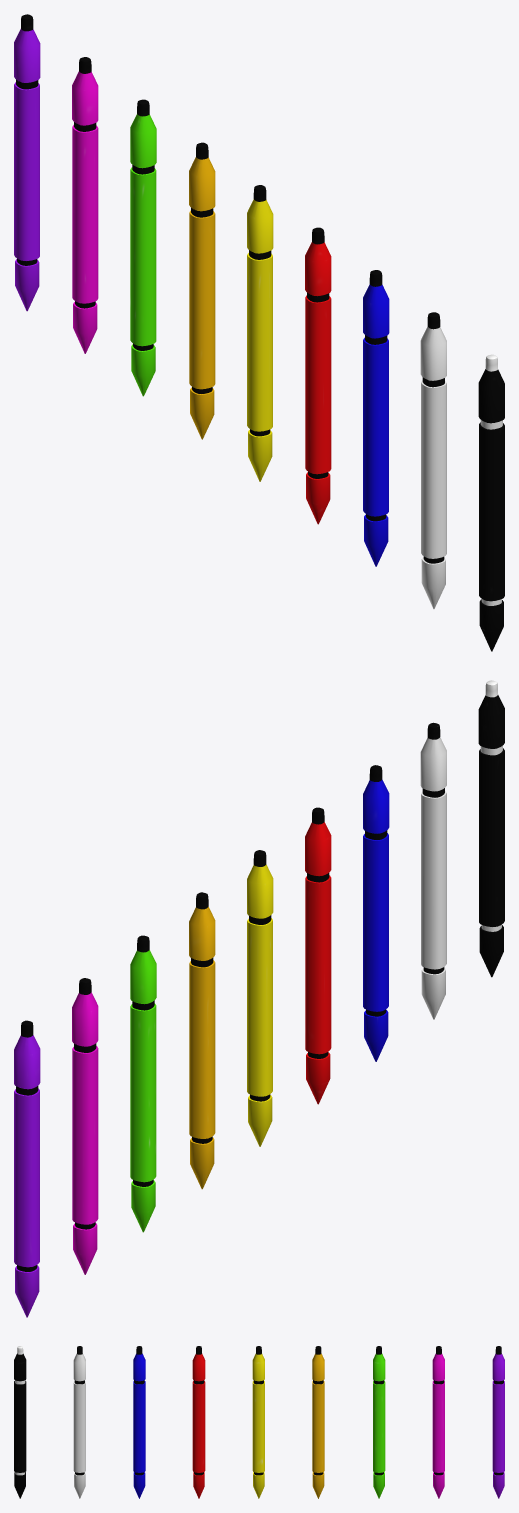
The model's file is PenV3.fbx.
The picture shows the model from 3 angles, top to bottom: view 1: azimuth 30°, elevation 25°; view 2: azimuth 150°, elevation 25°; view 3: azimuth 270°, elevation 25°; orthographic projection. The views are drawn at different scales.
Parts seen in each view (by area): view 1: GreenPen, RedPen, PinkPen, OrangePen, WhitePen, BluePen, YellowPen, BlackPen, PurplePen; view 2: PinkPen, GreenPen, RedPen, OrangePen, WhitePen, BluePen, YellowPen, PurplePen, BlackPen; view 3: RedPen, OrangePen, BluePen, BlackPen, PurplePen, WhitePen, YellowPen, PinkPen, GreenPen.
Part boxes in pixels (left/top/right/bottom): GreenPen: left=130, top=99, right=156, bottom=396; RedPen: left=305, top=227, right=331, bottom=524; PinkPen: left=72, top=57, right=98, bottom=353; OrangePen: left=189, top=142, right=215, bottom=439; WhitePen: left=420, top=312, right=446, bottom=608; BluePen: left=363, top=270, right=389, bottom=566; YellowPen: left=247, top=185, right=273, bottom=481; BlackPen: left=478, top=354, right=504, bottom=651; PurplePen: left=14, top=14, right=40, bottom=311; PinkPen: left=72, top=978, right=98, bottom=1274; GreenPen: left=130, top=935, right=156, bottom=1232; RedPen: left=305, top=807, right=331, bottom=1104; OrangePen: left=189, top=892, right=215, bottom=1189; WhitePen: left=420, top=722, right=446, bottom=1019; BluePen: left=363, top=765, right=389, bottom=1061; YellowPen: left=247, top=850, right=273, bottom=1146; PurplePen: left=14, top=1020, right=40, bottom=1317; BlackPen: left=478, top=680, right=504, bottom=977; RedPen: left=192, top=1346, right=205, bottom=1498; OrangePen: left=312, top=1346, right=324, bottom=1498; BluePen: left=133, top=1346, right=145, bottom=1498; BlackPen: left=14, top=1346, right=26, bottom=1498; PurplePen: left=492, top=1346, right=504, bottom=1498; WhitePen: left=73, top=1346, right=85, bottom=1498; YellowPen: left=252, top=1346, right=264, bottom=1498; PinkPen: left=432, top=1346, right=444, bottom=1498; GreenPen: left=373, top=1346, right=385, bottom=1498.
Bounding box in the file's own units: 2.09 × 28.13 × 82.39.
